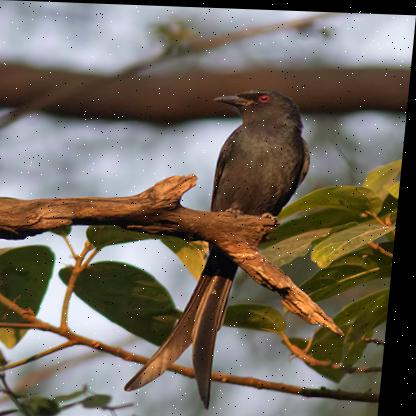Burung: (133, 81, 319, 410)
